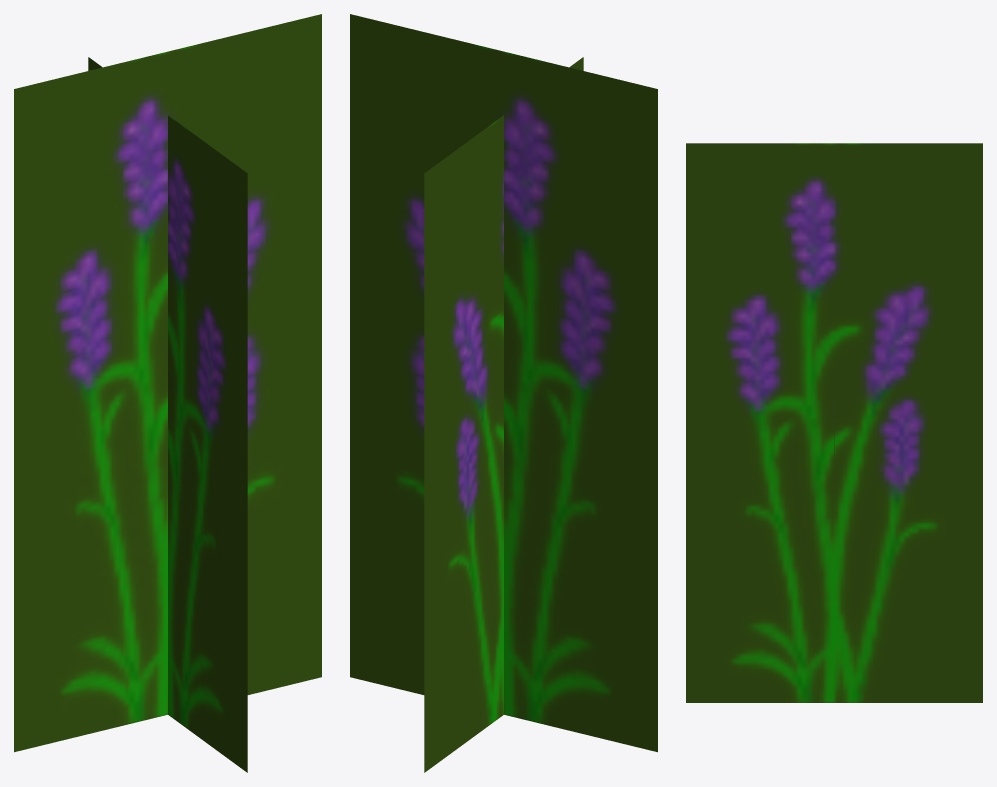
Rendered from Flower03_a01.FBX.
The picture shows the model from 3 angles, left to right: view 1: azimuth 30°, elevation 25°; view 2: azimuth 150°, elevation 25°; view 3: azimuth 270°, elevation 25°; orthographic projection. The views are drawn at different scales.
Parts seen in each view (by area): view 1: Flower03_a01; view 2: Flower03_a01; view 3: Flower03_a01.
Part boxes in pixels (x1,y1,x2,y2): Flower03_a01: (14,14,321,772); Flower03_a01: (350,14,657,772); Flower03_a01: (686,143,982,702).
Bounding box in the file's own units: 39.49 × 81.27 × 35.34.
Materials: 1 (1 with a texture image).
